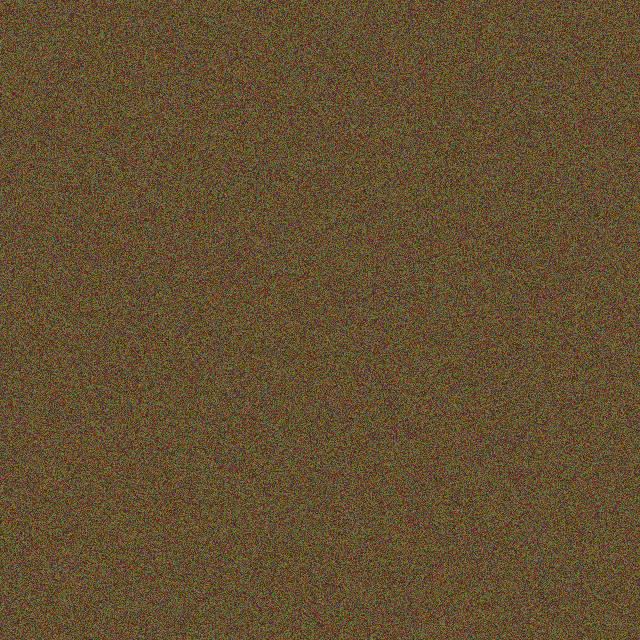ghost_net: (388, 346, 500, 431)
